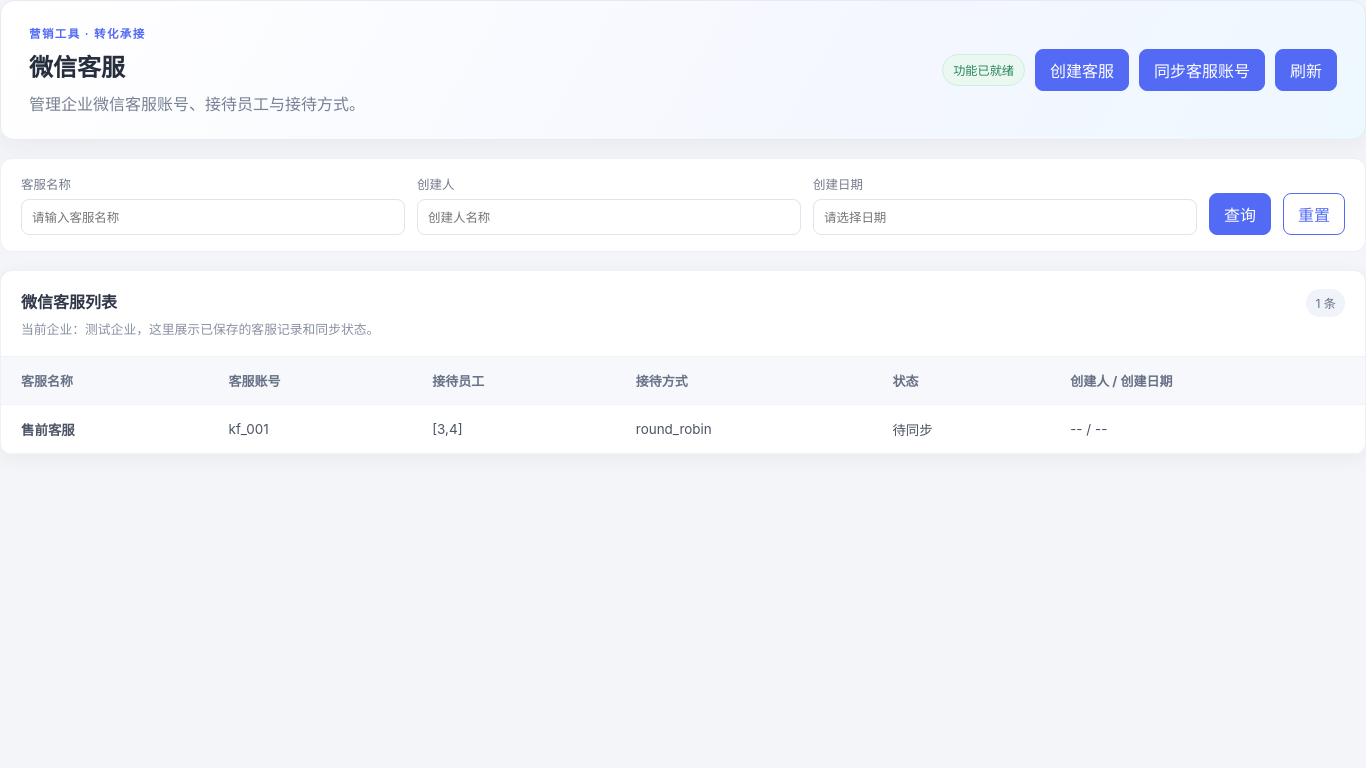
Test: Phase 3.4 conversion pages › loads customer-service accounts, persists a draft, and exposes sync failure
The image size is (1366, 768).
Check: the text "售前客服" is shown, box [21,422,75,438]
Click the button "创建客服" at [1082, 70], box [1035,49,1129,91]
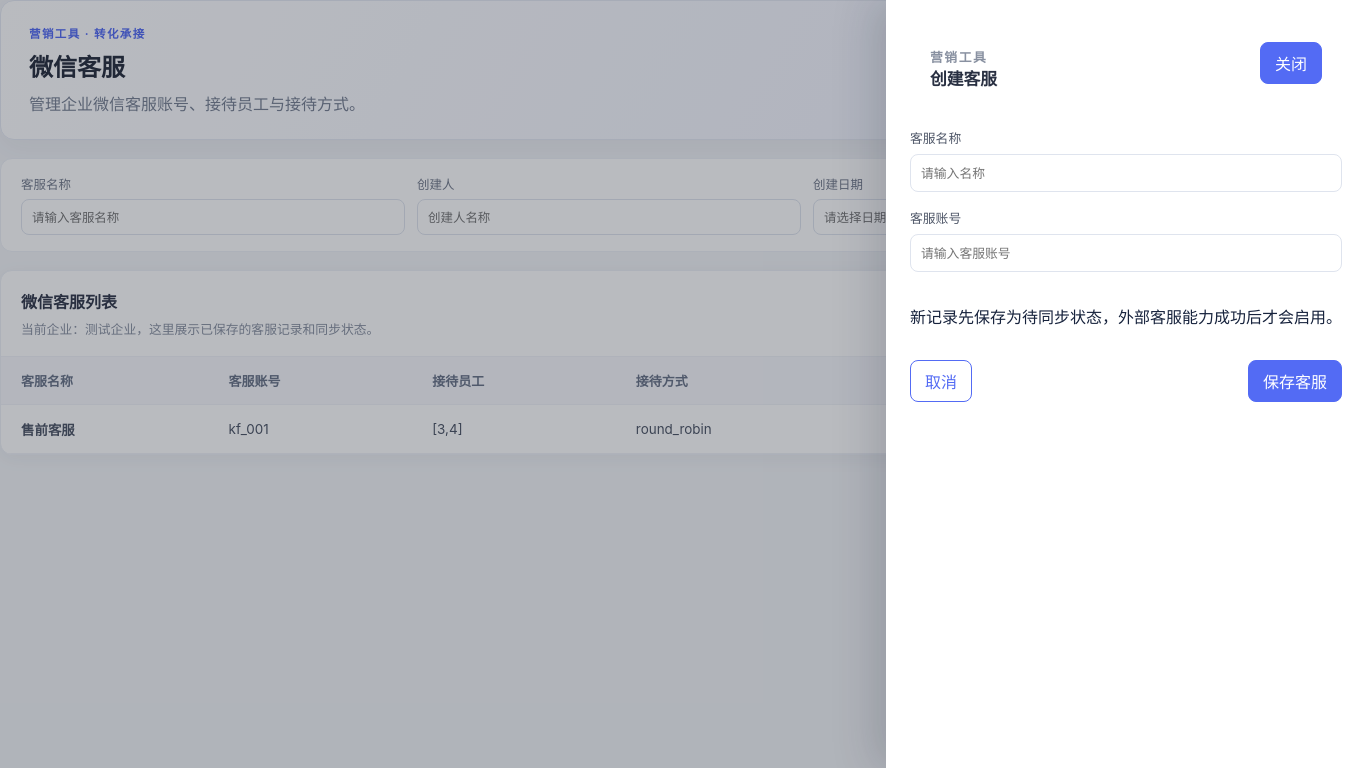
Type "售后客服" into the field labelled "客服名称" at [1126, 173], box [910,154,1342,192]
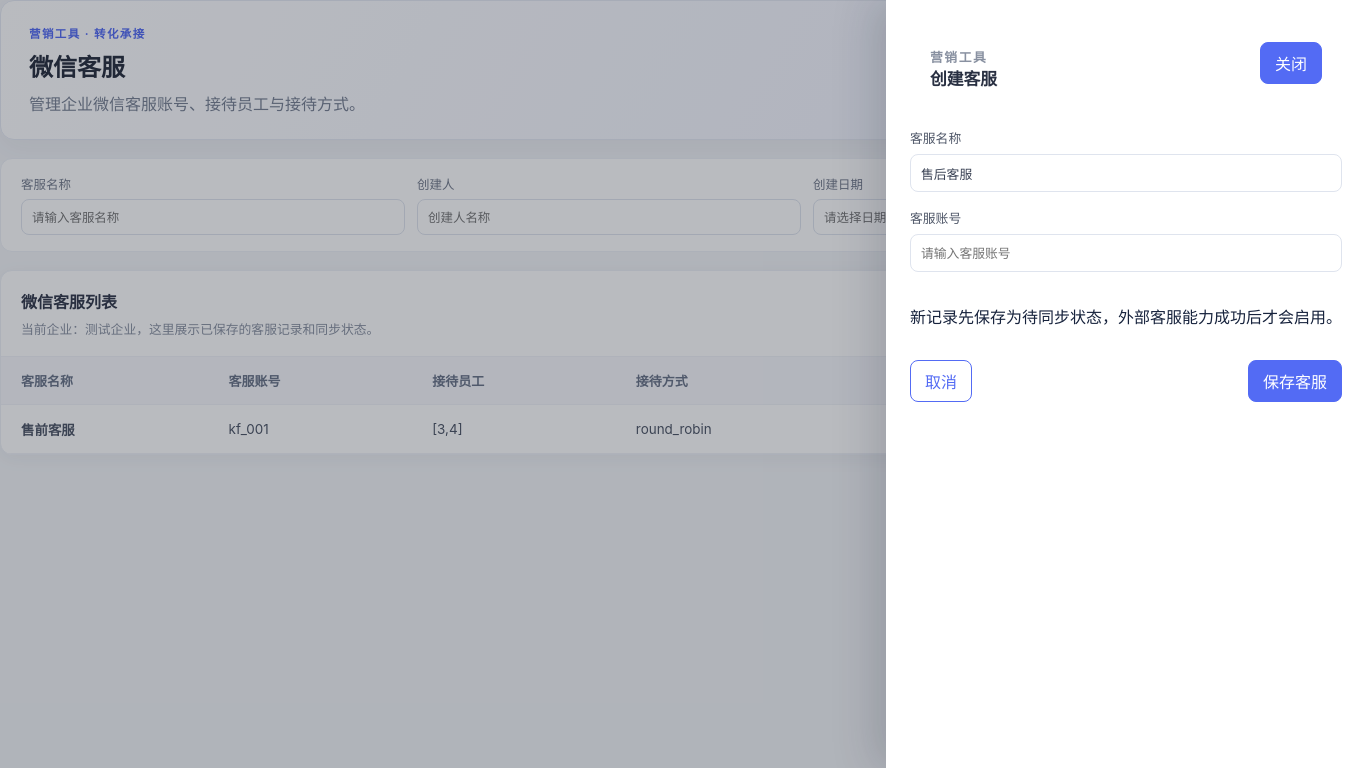
Type "kf_002" into the field labelled "客服账号" at [1126, 253], box [910,234,1342,272]
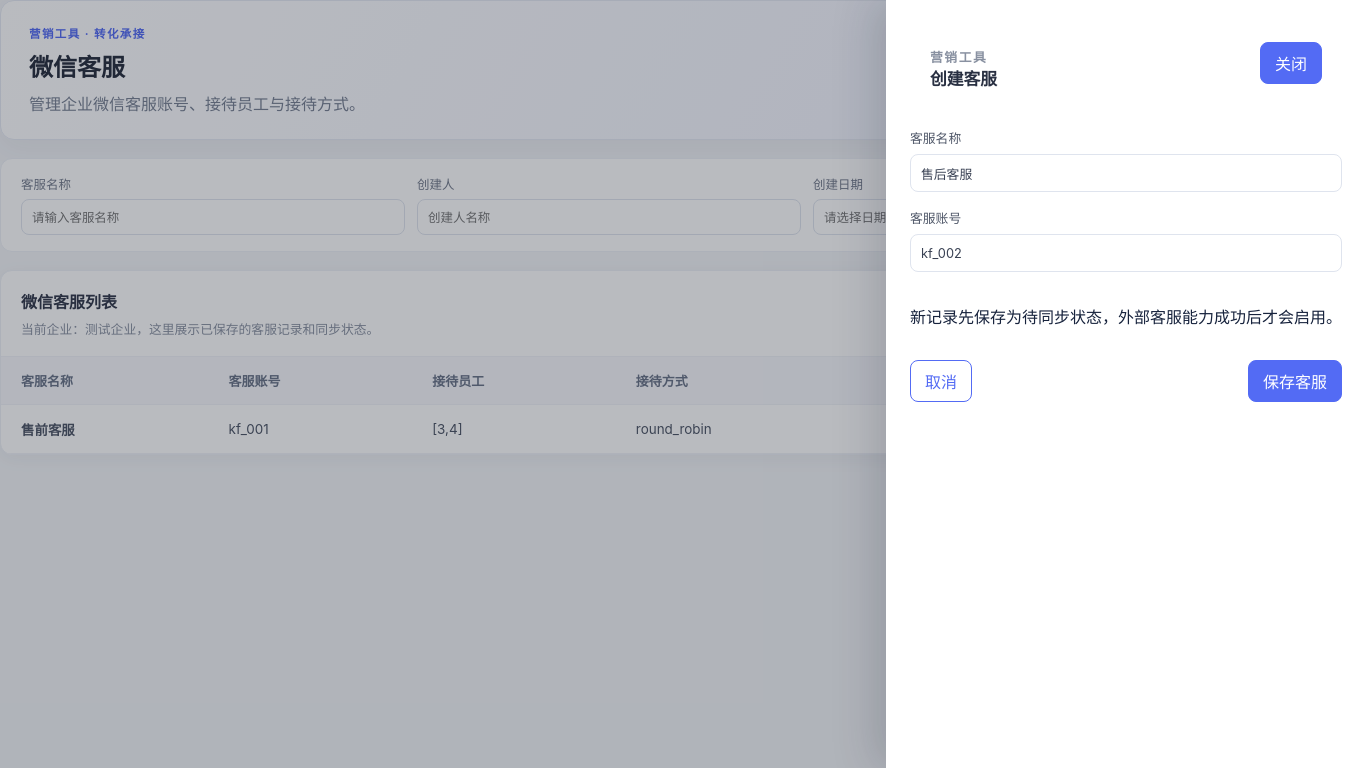
Click the button "保存客服" at [1295, 381], box [1248,360,1342,402]
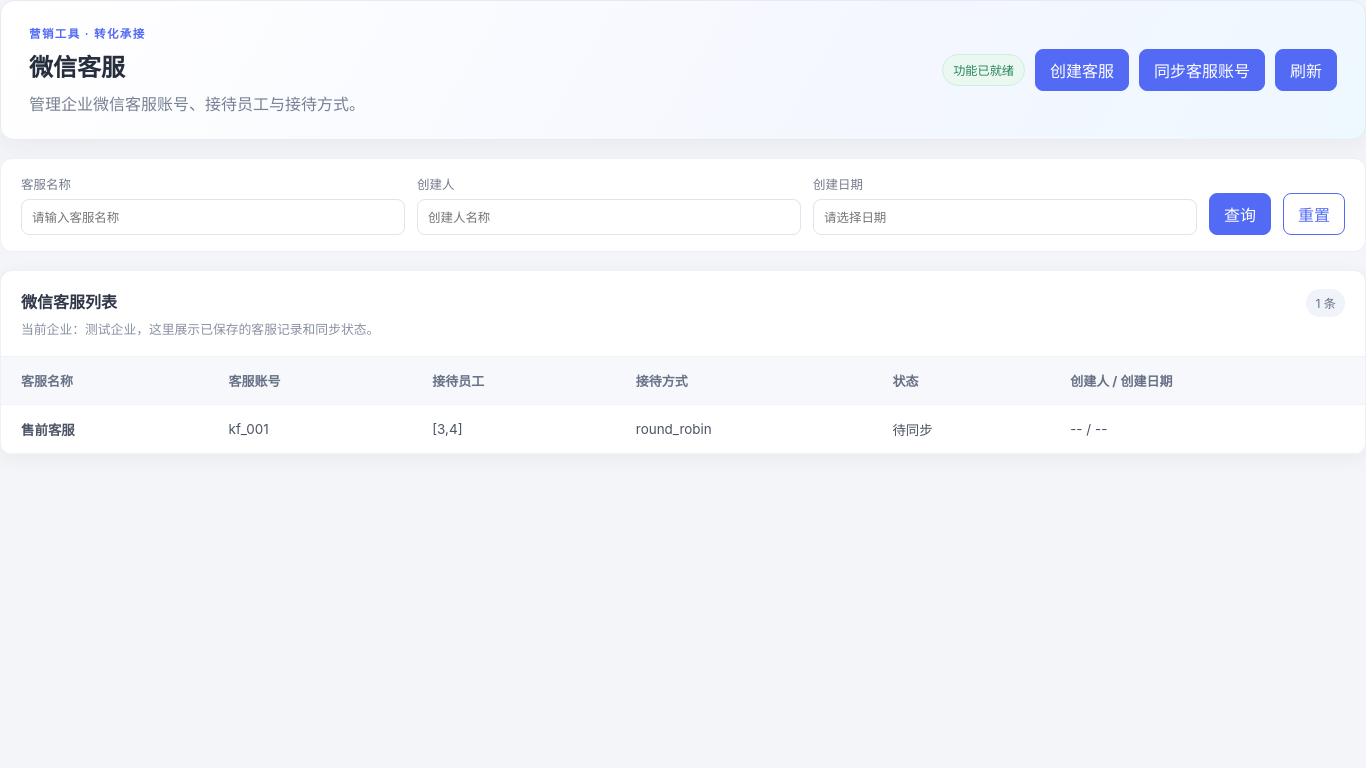
Click the button "同步客服账号" at [1202, 70], box [1139,49,1265,91]
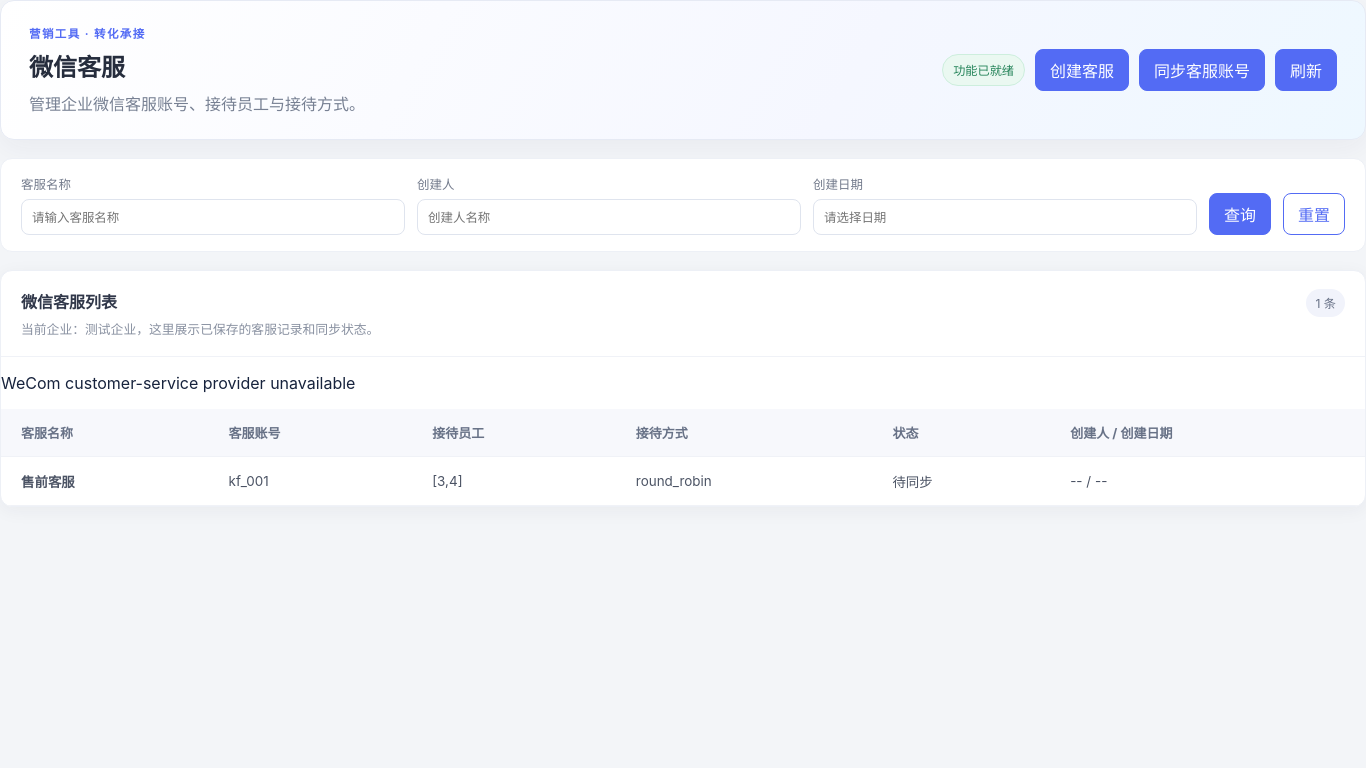
Check: the message reads "WeCom customer-service provider unavailable", box [1,373,355,393]
